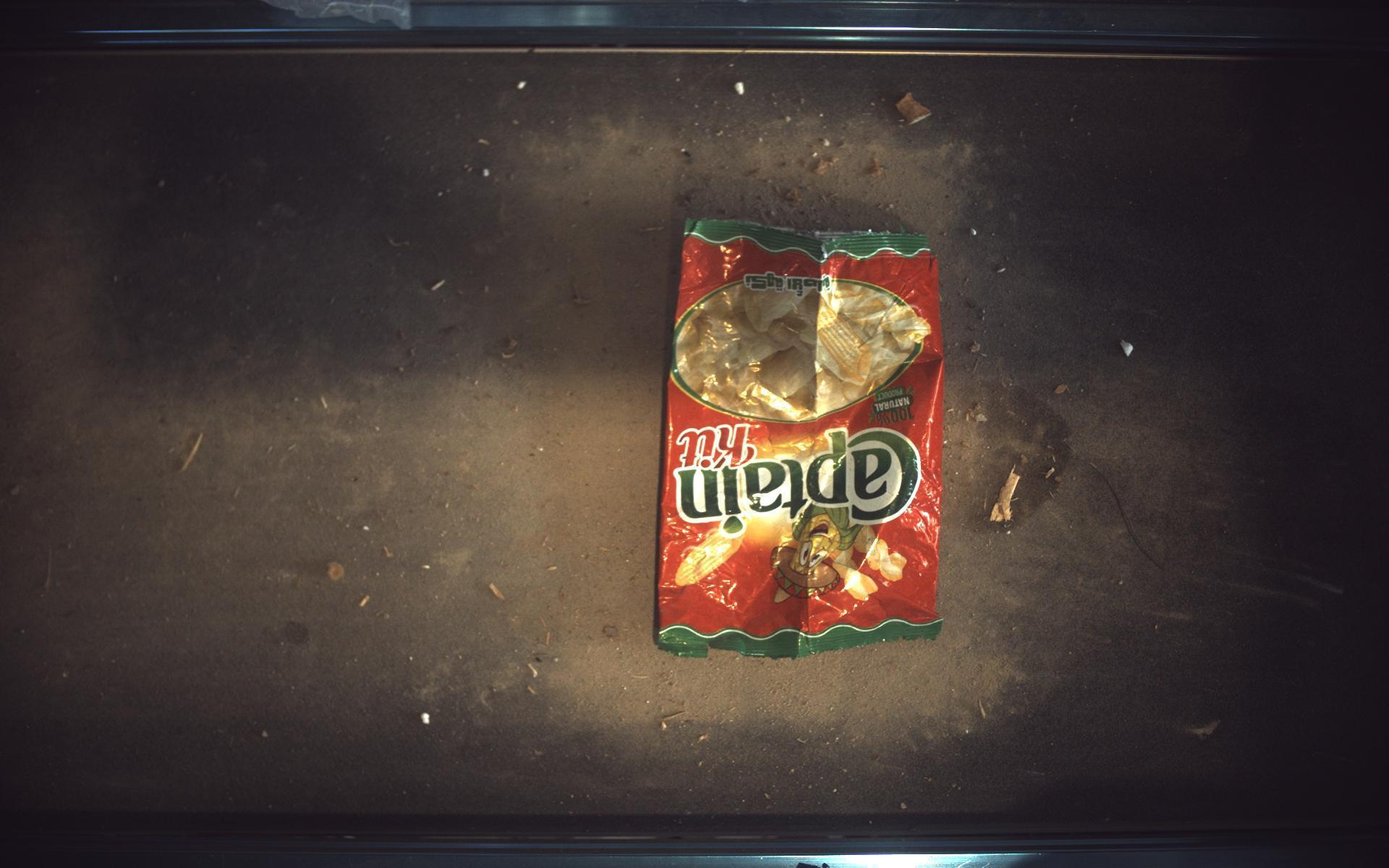general_w: (657, 218, 946, 658)
